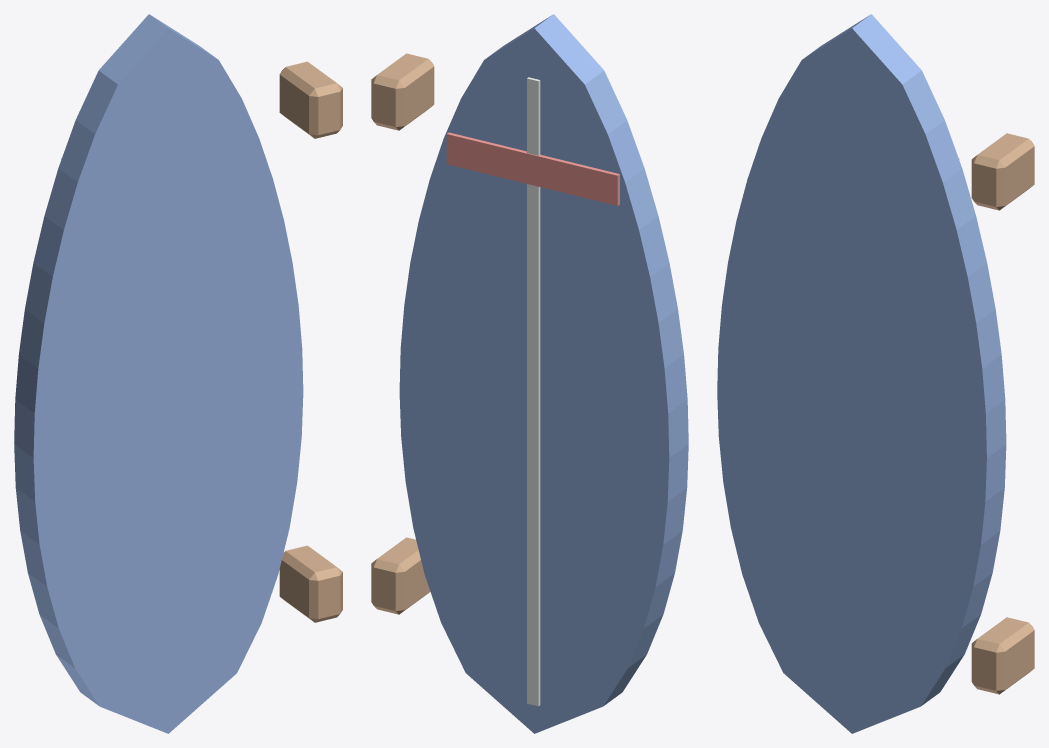
The model's file is surfboard.glb.
The picture shows the model from 3 angles, left to right: view 1: azimuth 30°, elevation 25°; view 2: azimuth 150°, elevation 25°; view 3: azimuth 330°, elevation 25°; orthographic projection.
Visible parts, largest first — view 1: Surfboard; view 2: Surfboard; view 3: Surfboard.
Part boxes in pixels (bbox=[...]): Surfboard: bbox=[14, 14, 342, 733]; Surfboard: bbox=[371, 14, 688, 733]; Surfboard: bbox=[717, 14, 1034, 733].
Bounding box in the file's own units: 0.2818 × 0.6364 × 0.0591.
